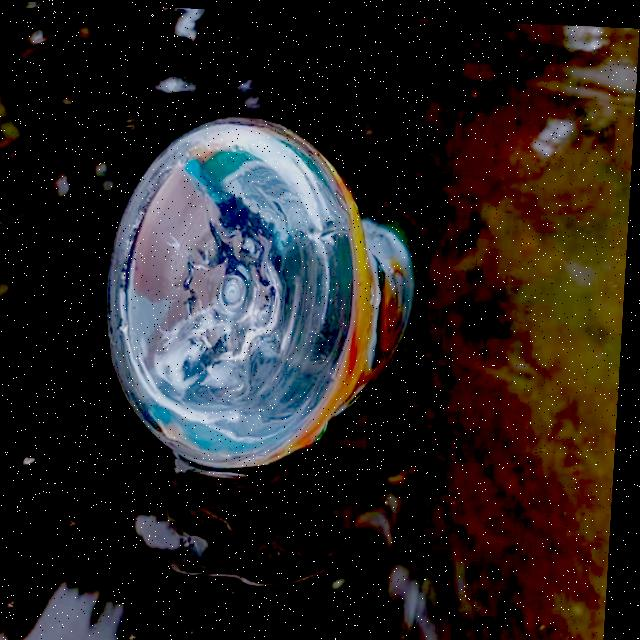waterbottle: (86, 90, 450, 484)
